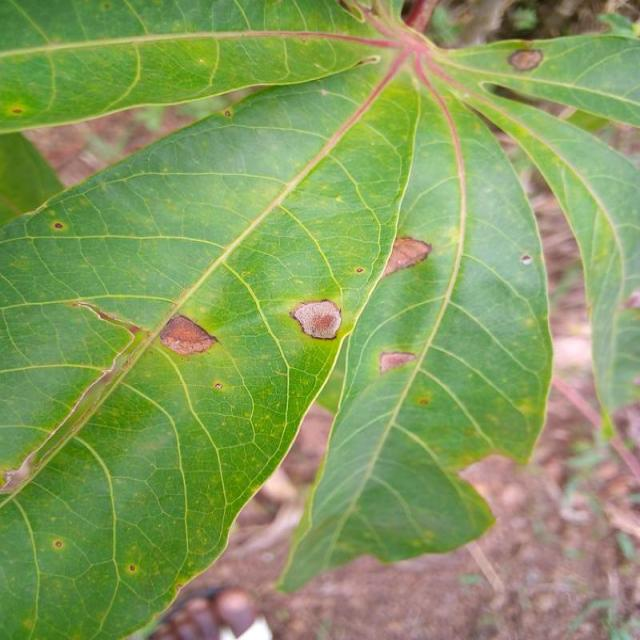cassava leaf: (2, 1, 639, 636), (274, 70, 556, 596)
